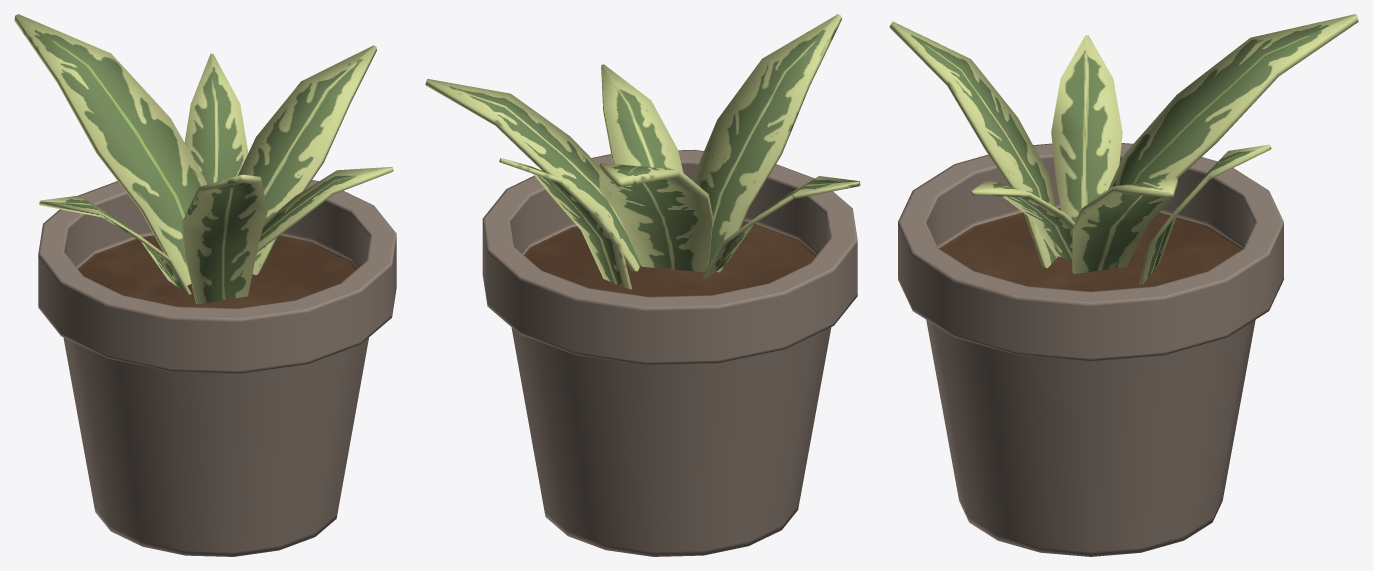
Rendered from Flowerpot_02.fbx.
3 renders of one model, left to right at view 1: azimuth 30°, elevation 25°; view 2: azimuth 150°, elevation 25°; view 3: azimuth 270°, elevation 25°, orthographic. The views are drawn at different scales.
Visible parts, largest first — view 1: Cylinder.146; view 2: Cylinder.146; view 3: Cylinder.146.
Part boxes in pixels (<box>): Cylinder.146: <box>14,14,396,556</box>; Cylinder.146: <box>425,14,860,556</box>; Cylinder.146: <box>889,14,1358,556</box>.
Bounding box in the file's own units: 24.74 × 26.31 × 25.06.
Materials: 1 (1 with a texture image).
